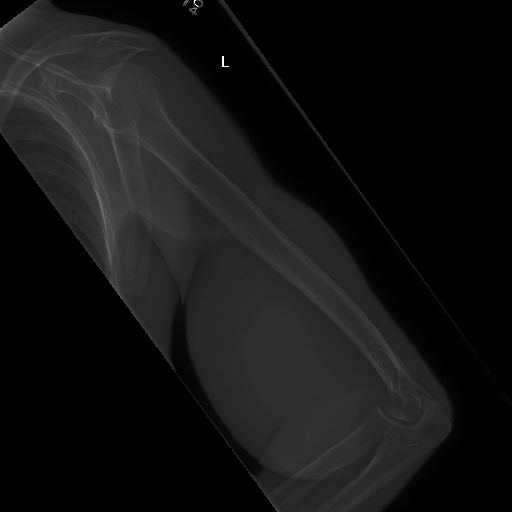fracture: (372, 372, 431, 427)
